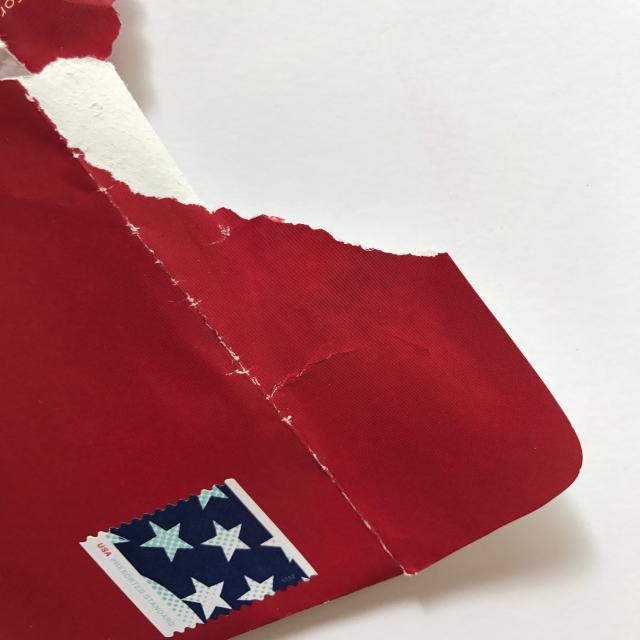paper: (1, 1, 587, 638)
